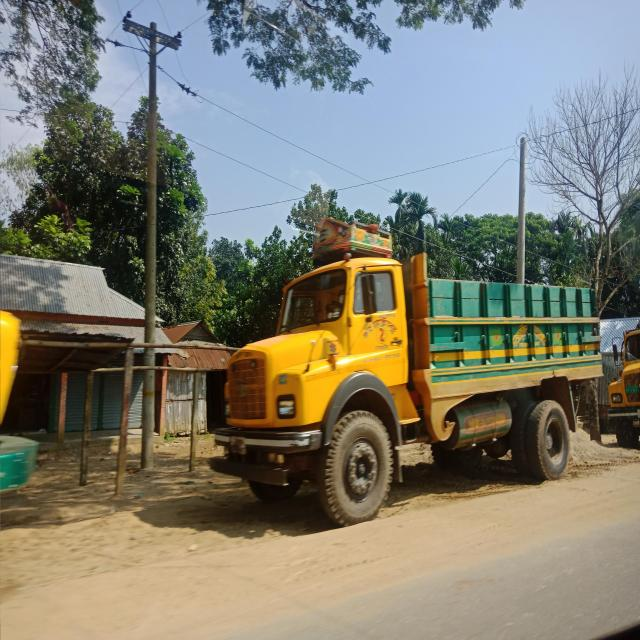truck: (215, 192, 613, 537), (602, 308, 640, 456)
